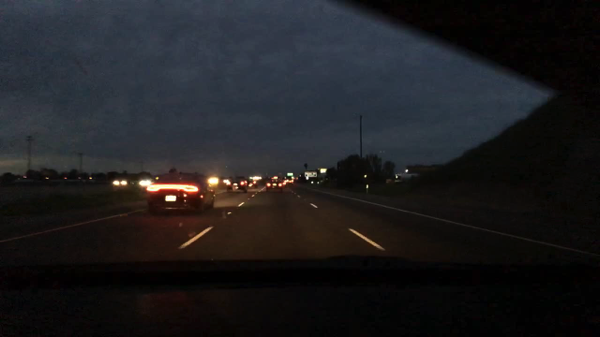car: (146, 175, 215, 215), (225, 176, 248, 192), (265, 176, 284, 192), (137, 176, 154, 189), (110, 178, 129, 188), (207, 175, 219, 190), (310, 176, 324, 186), (247, 178, 258, 189), (282, 176, 294, 185)
traffic sign: (304, 172, 318, 179)
truck: (393, 169, 418, 181)
